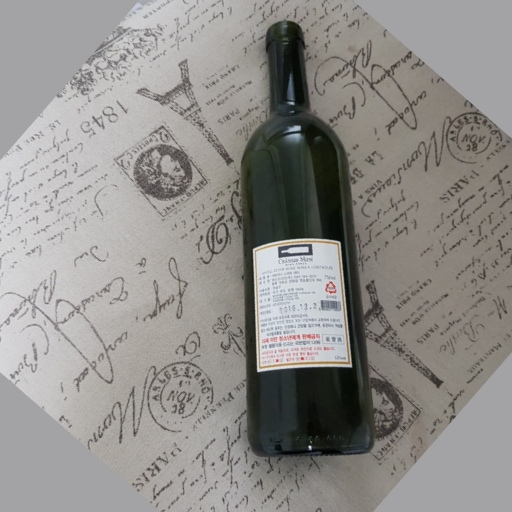Glass_2: (241, 16, 376, 457)
